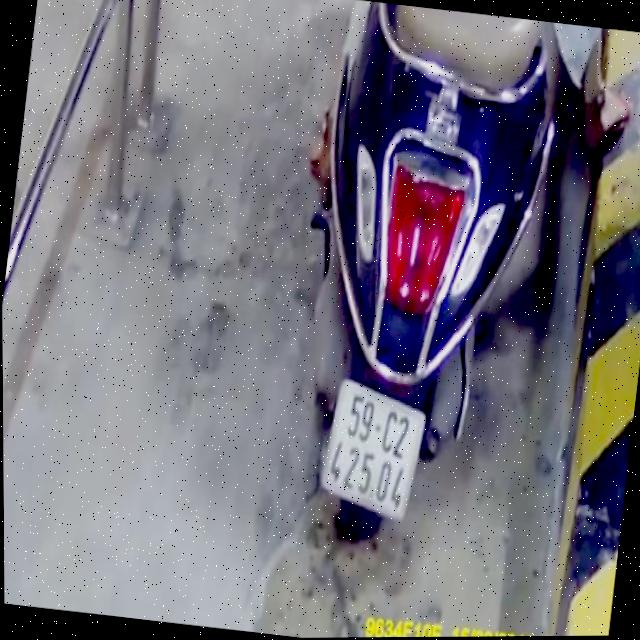motorcycle: (257, 0, 573, 570)
plate: (313, 373, 436, 523)
